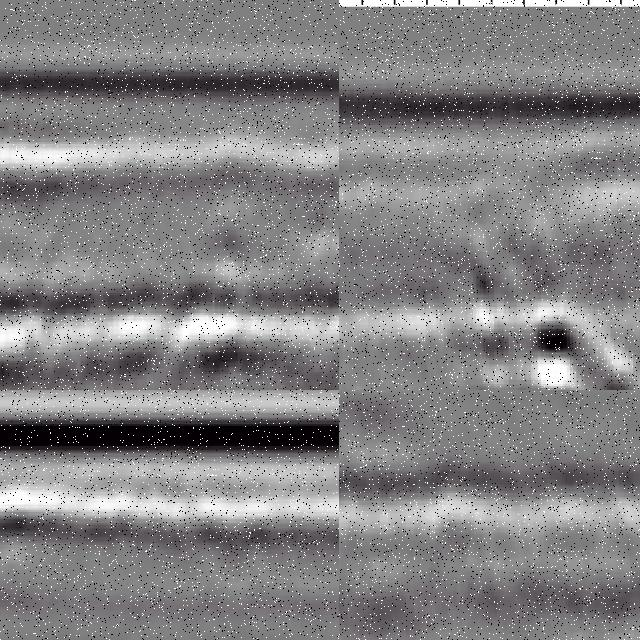loose: (463, 290, 640, 391)
